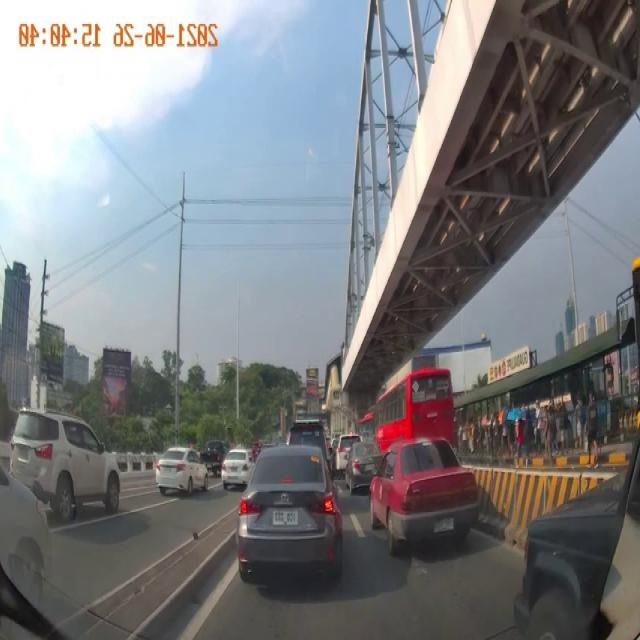bus: (370, 366, 455, 468)
car: (372, 443, 468, 553), (21, 411, 111, 508), (158, 448, 202, 496), (346, 437, 382, 492), (212, 451, 252, 487)
